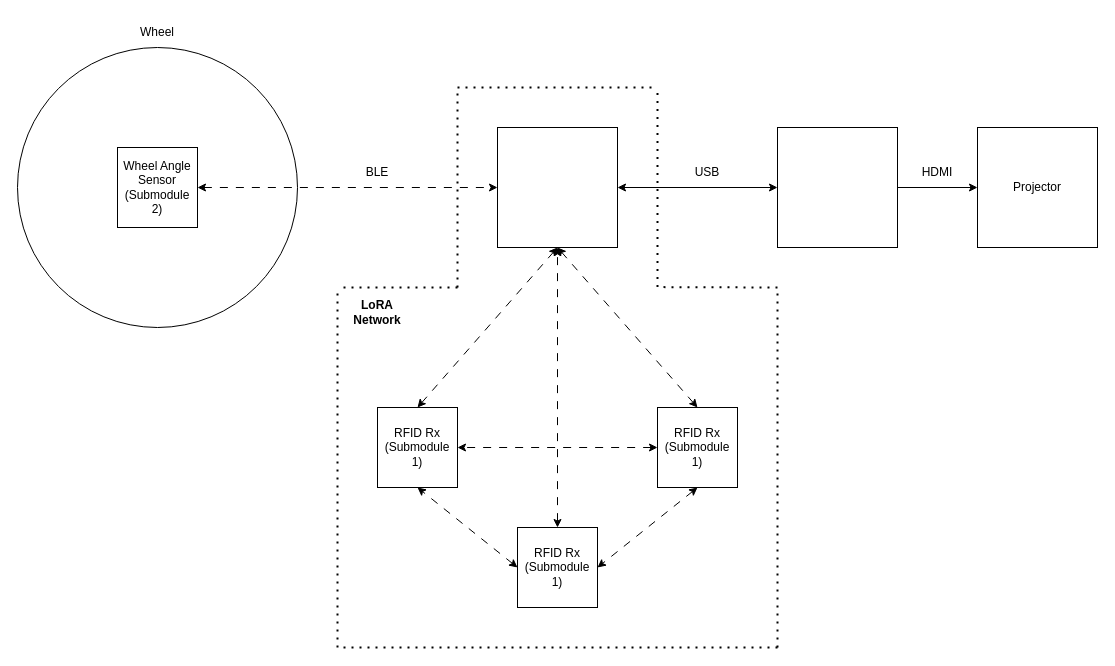
Some shapes in this 1115 by 666 pixel diagram are drawn without their labels. The shapes that lost their labels are listed below. From the top down, each one's box as (x1, y1, x2, y2) in pixels, then its label:
(496, 126, 618, 248): Base Station (NRF52840 #2)
(776, 126, 898, 248): Host PC
